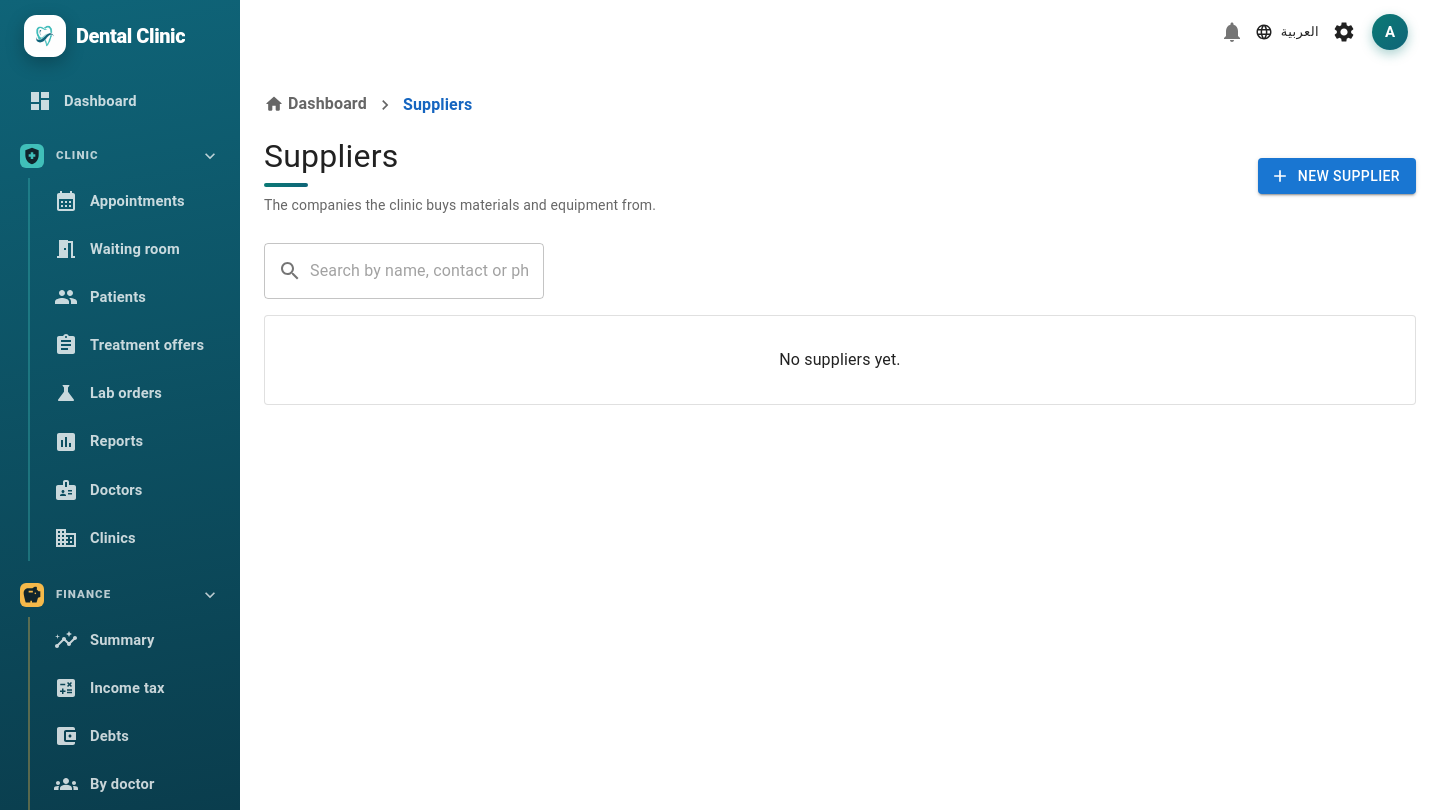
Scenario: labs and suppliers › adds a supplier, and requires a name and a phone
Click the button "New supplier" at (1337, 176), box [1258,158,1416,194]
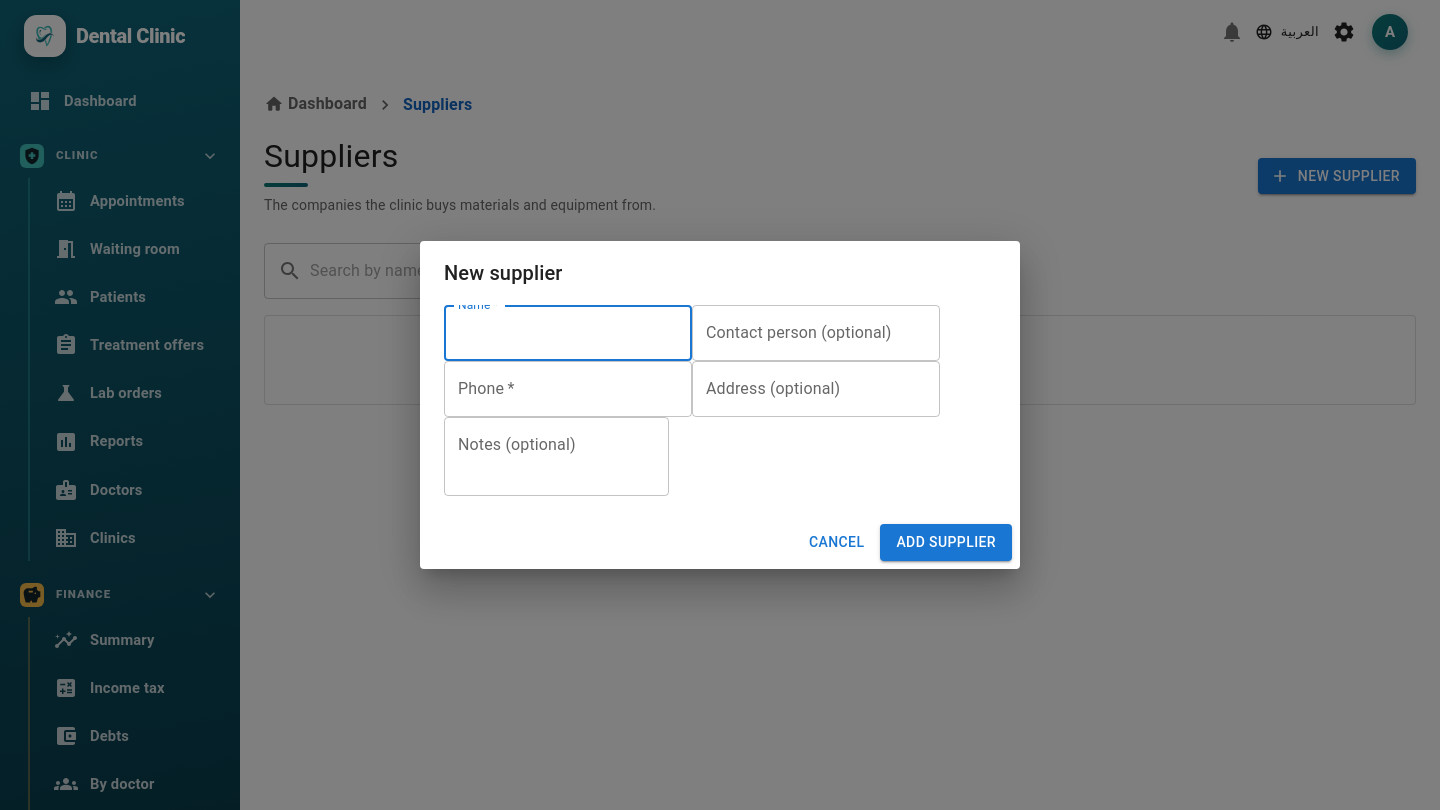
Click the button "Add supplier" at (946, 543), box [880,524,1012,561]
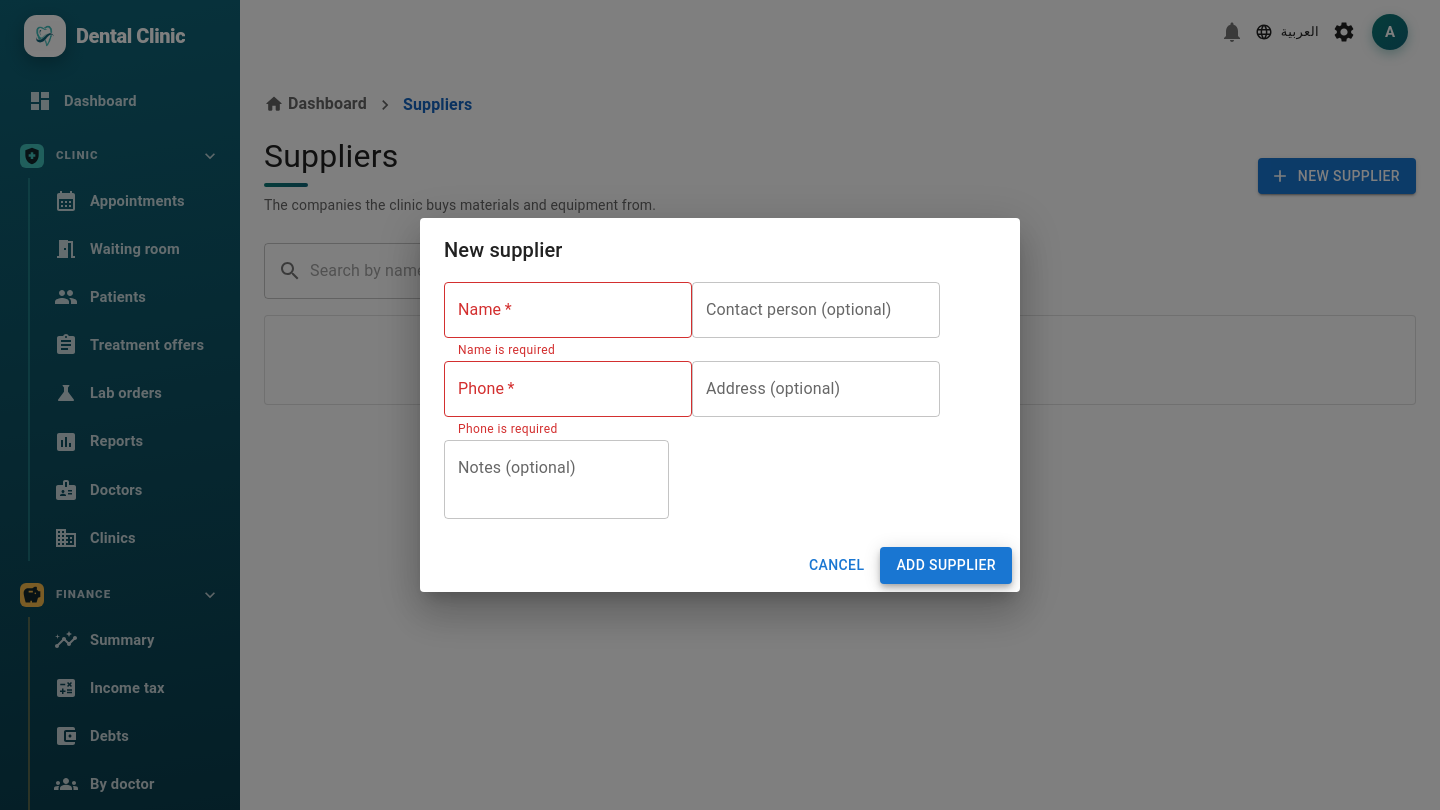
Expected: the text "Name is required" is shown, [458,343,555,357]
Type "Safadi" into the field labelled "Name *" at (568, 310), box [444,282,692,338]
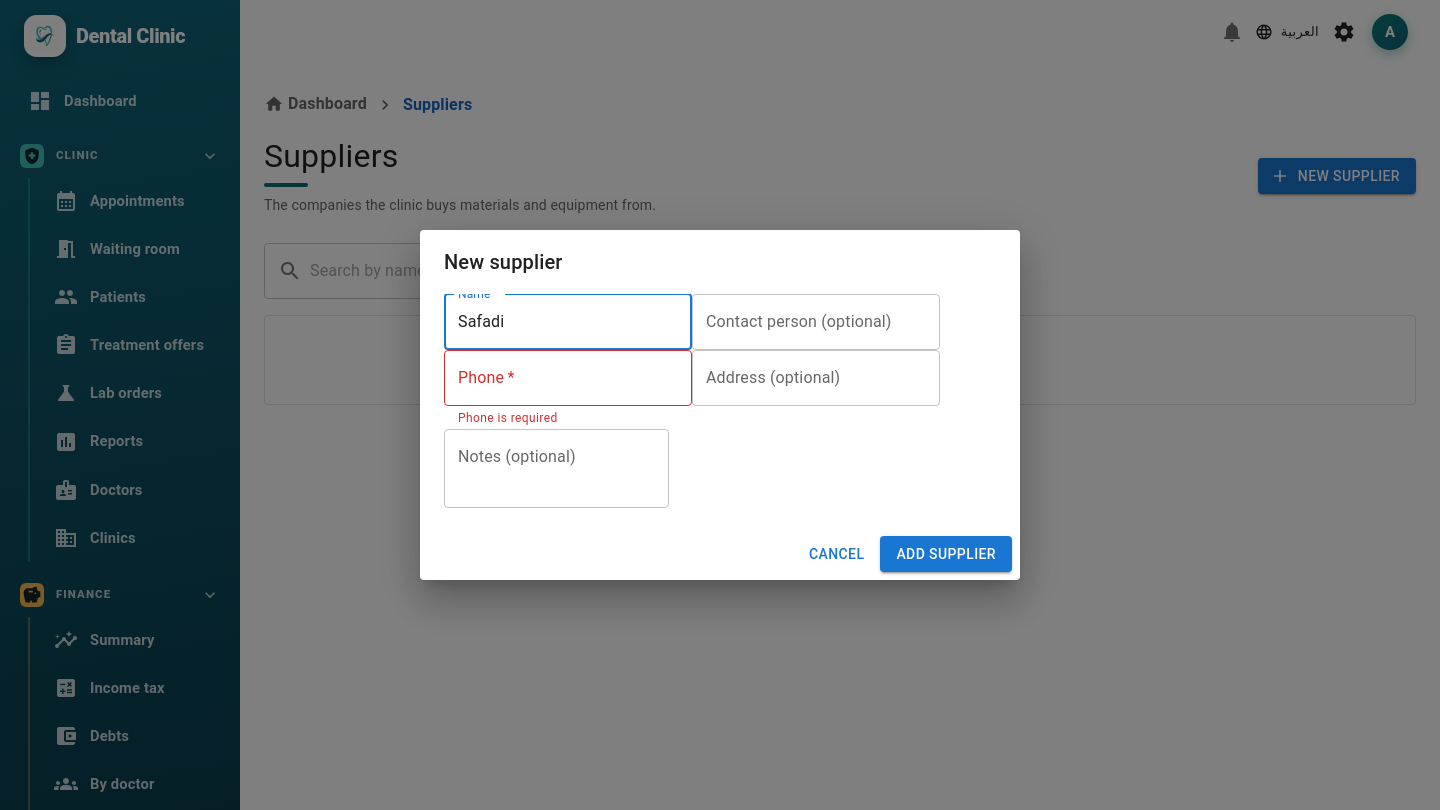
Type "03 555" into the field labelled "Phone *" at (568, 378), box [444,350,692,406]
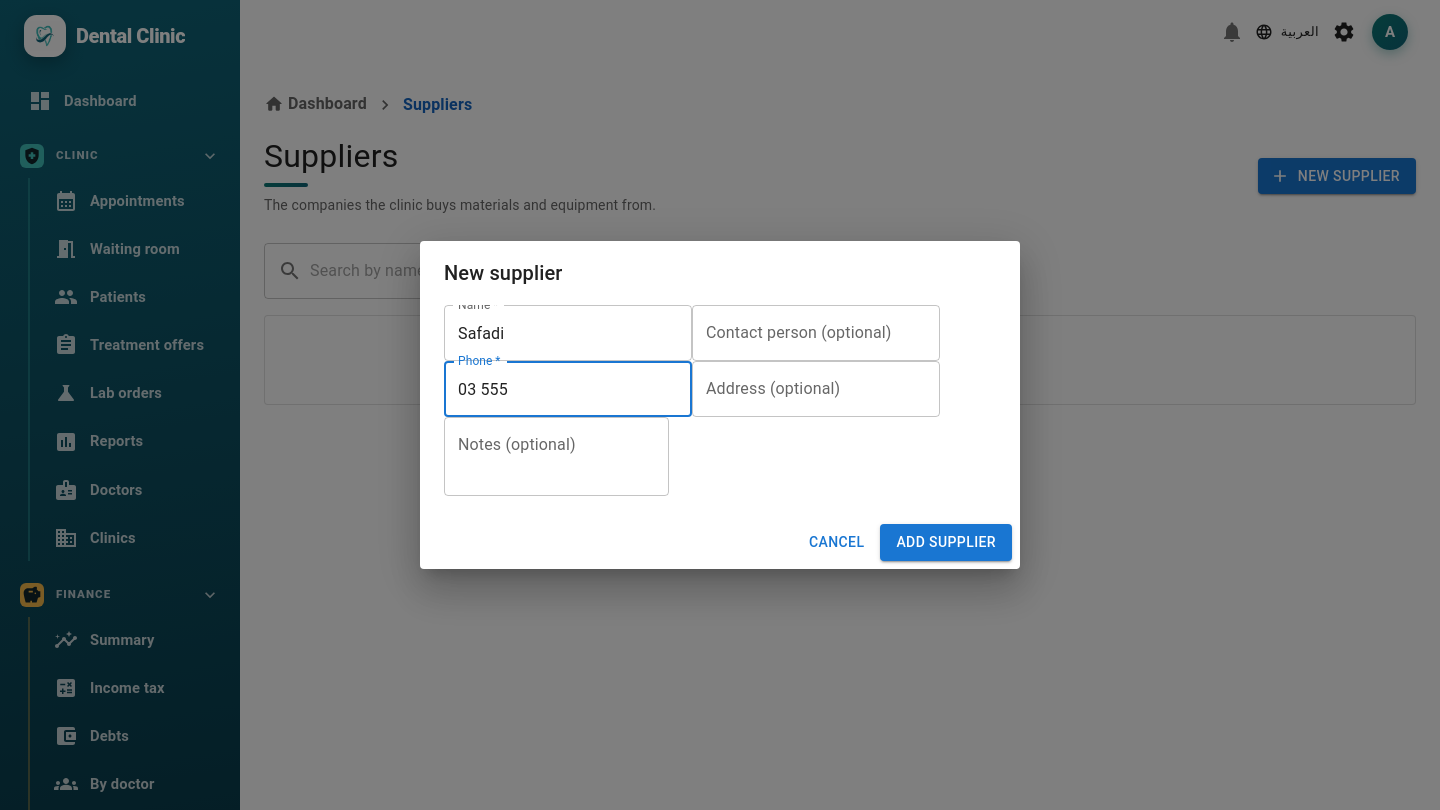
Click the button "Add supplier" at (946, 543), box [880,524,1012,561]
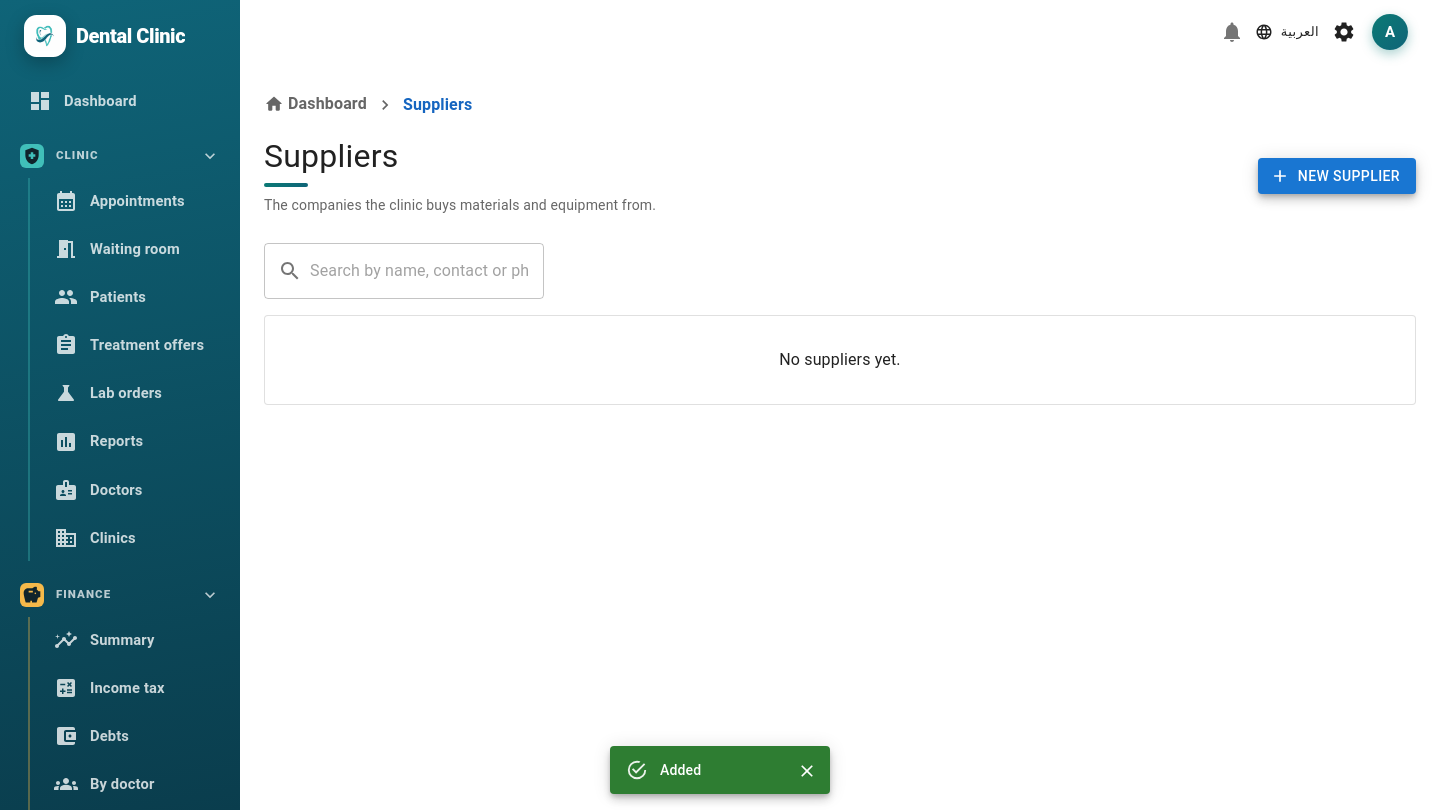
Expected: the text "Added" is shown, [660,762,701,778]
